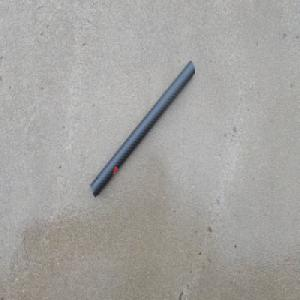LuggagePart: (89, 58, 196, 198)
